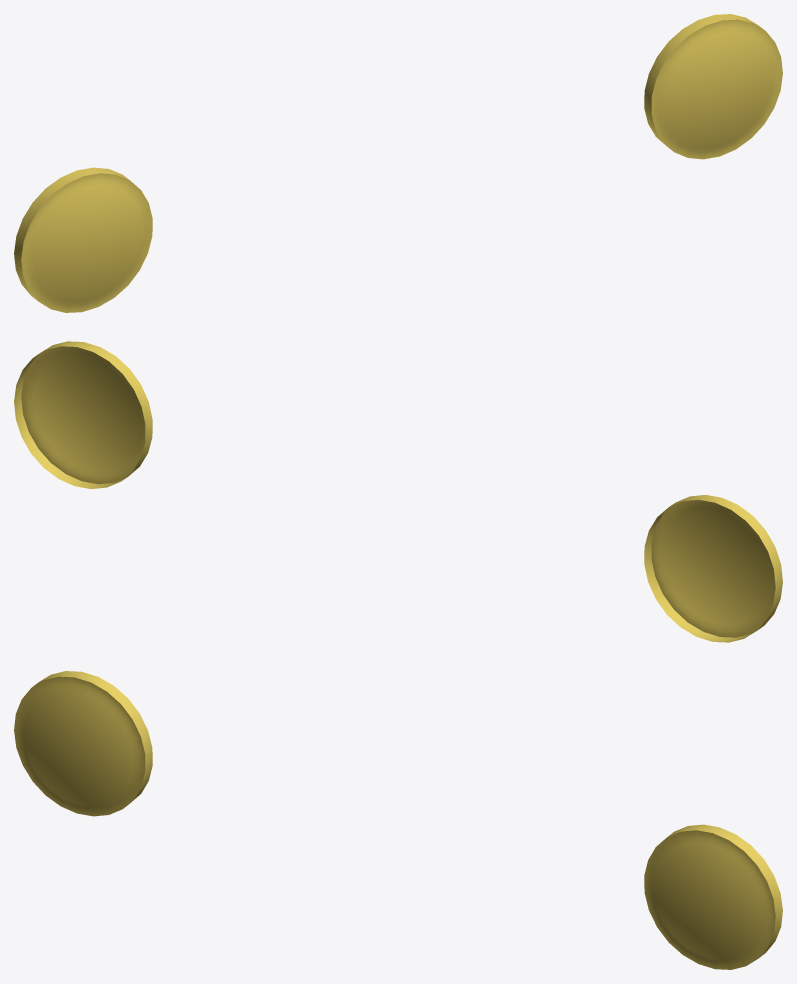
File: glass2.gltf
3 renders of one model, top to bottom at view 1: azimuth 30°, elevation 25°; view 2: azimuth 150°, elevation 25°; view 3: azimuth 330°, elevation 25°, orthographic.
Parts seen in each view (by area): view 1: verre_phare; view 2: verre_phare; view 3: verre_phare.
Part boxes in pixels (bbox=[...]): verre_phare: bbox=[14, 14, 782, 312]; verre_phare: bbox=[14, 341, 782, 642]; verre_phare: bbox=[14, 671, 782, 969].
Size of the model in its own units: 0.6739 by 0.1167 by 0.016.
